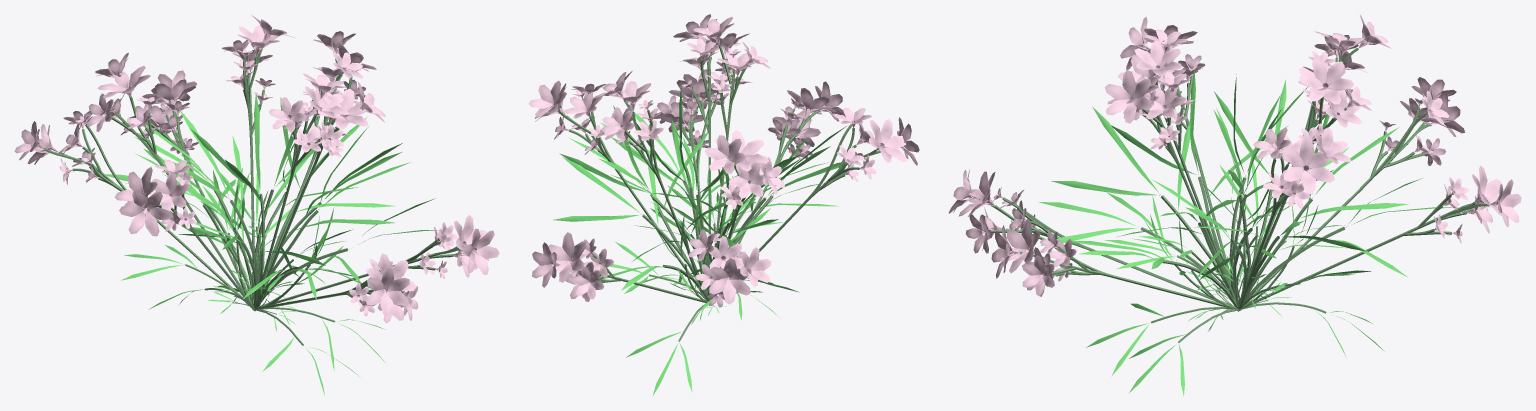
Rendered from plantsR.glb.
3 views of the same model, side by side, from view 1: azimuth 30°, elevation 25°; view 2: azimuth 150°, elevation 25°; view 3: azimuth 270°, elevation 25° (orthographic). The views are drawn at different scales.
Visible parts, largest first — view 1: Object_9; view 2: Object_9; view 3: Object_9.
Boxes of the visible parts, box(x1,y1,x2,y2) form: Object_9: box(14, 15, 499, 395); Object_9: box(528, 14, 919, 396); Object_9: box(948, 14, 1521, 396).
Bounding box in the file's own units: 16.45 × 14.38 × 23.05.
